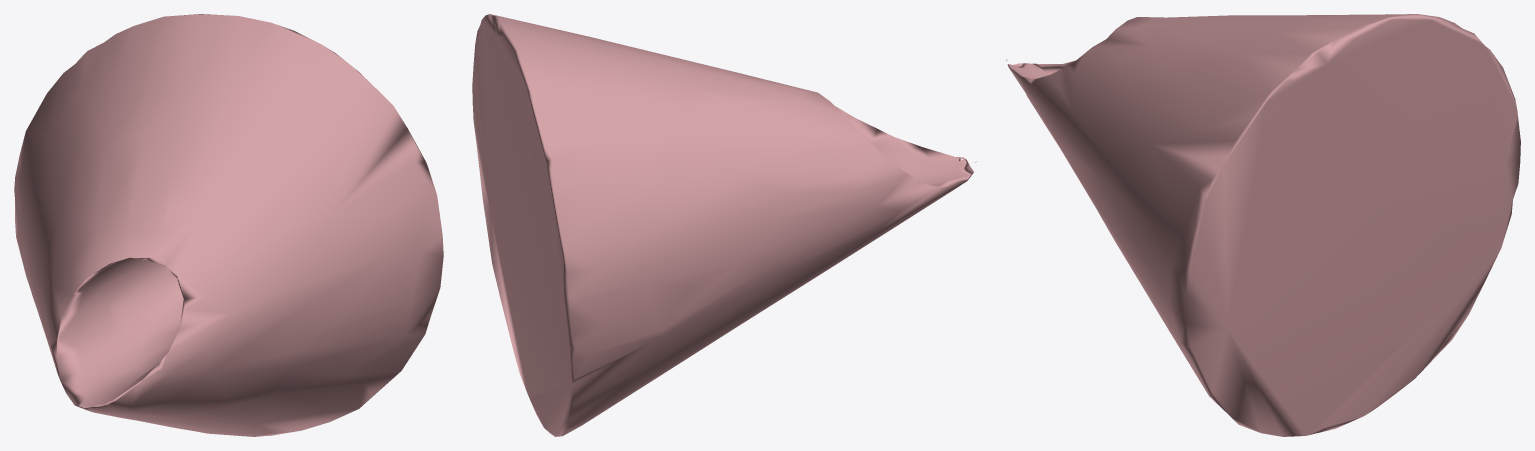
Rendered from fma77732-l_mm995.glb.
3 views of the same model, side by side, from view 1: azimuth 30°, elevation 25°; view 2: azimuth 150°, elevation 25°; view 3: azimuth 270°, elevation 25° (orthographic). The views are drawn at different scales.
Parts seen in each view (by area): view 1: FMA77732-L_MM995; view 2: FMA77732-L_MM995; view 3: FMA77732-L_MM995.
Boxes of the visible parts, x1,y1,x2,y2 form: FMA77732-L_MM995: (14, 14, 443, 436); FMA77732-L_MM995: (472, 14, 977, 436); FMA77732-L_MM995: (1006, 14, 1520, 436).
Size of the model in its own units: 0.00207 by 0.00182 by 0.00207.
